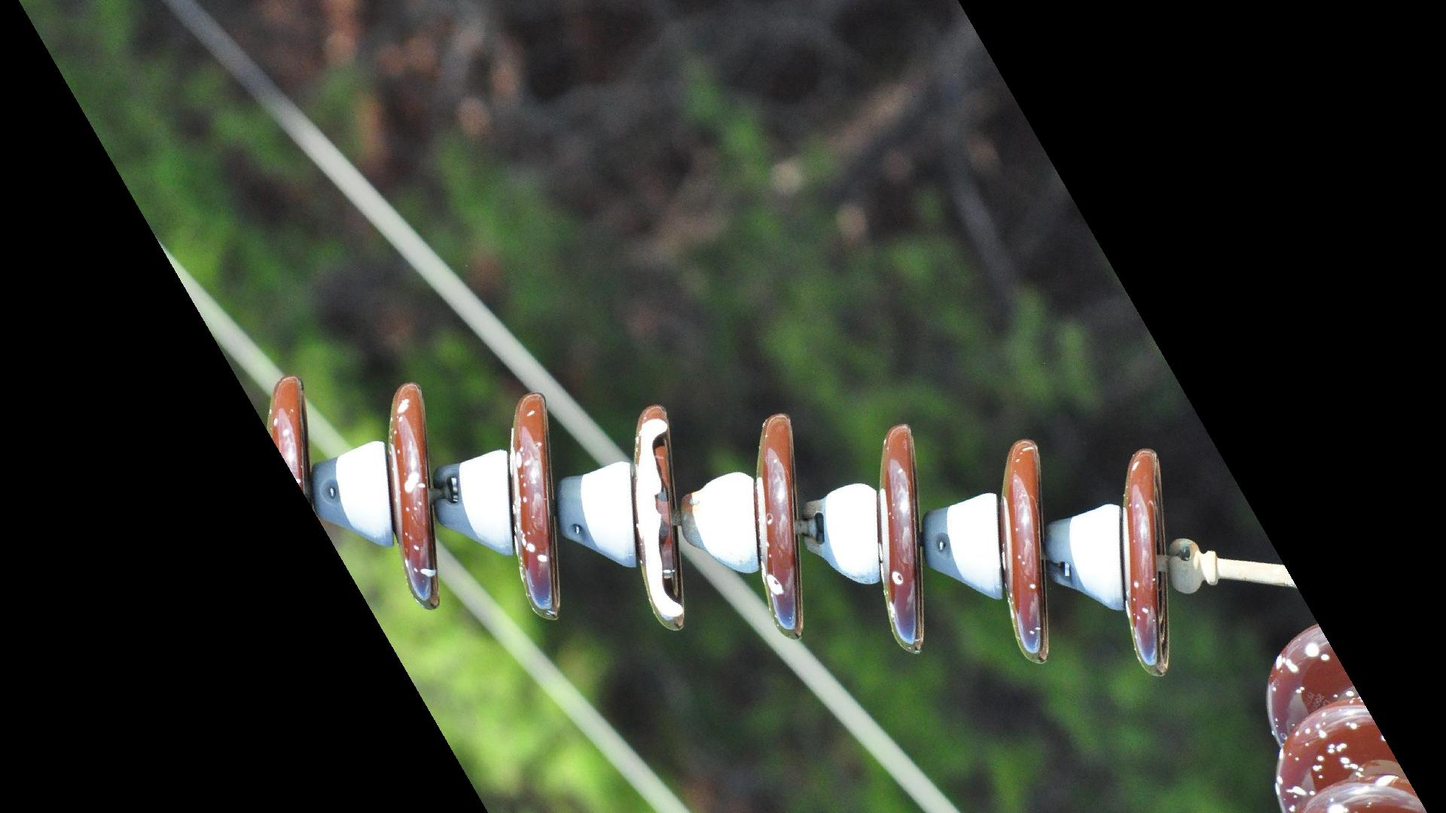insulator: (258, 370, 1186, 687), (1253, 607, 1434, 813)
insulator_breakage: (624, 400, 694, 637)
